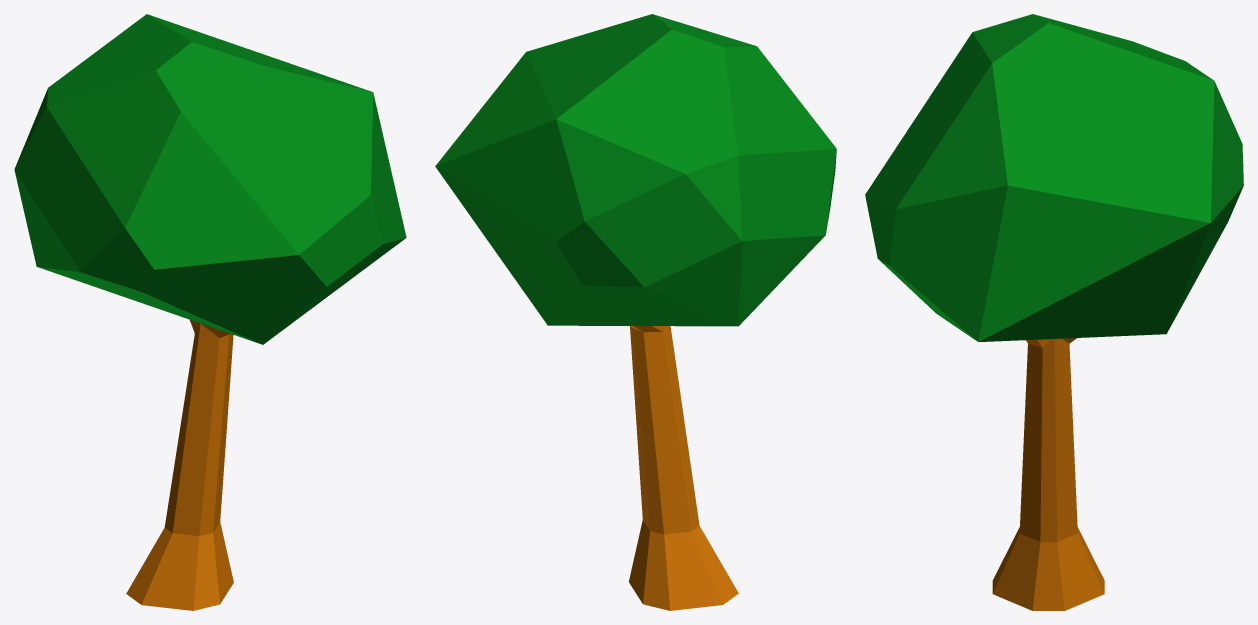
File: Tree_002.fbx
3 views of the same model, side by side, from view 1: azimuth 30°, elevation 25°; view 2: azimuth 150°, elevation 25°; view 3: azimuth 270°, elevation 25° (orthographic). The views are drawn at different scales.
Parts seen in each view (by area): view 1: Tree; view 2: Tree; view 3: Tree.
Boxes of the visible parts, bbox=[...] form: Tree: bbox=[14, 14, 406, 610]; Tree: bbox=[435, 14, 836, 610]; Tree: bbox=[865, 14, 1243, 610].
Size of the model in its own units: 247 by 412 by 248.
